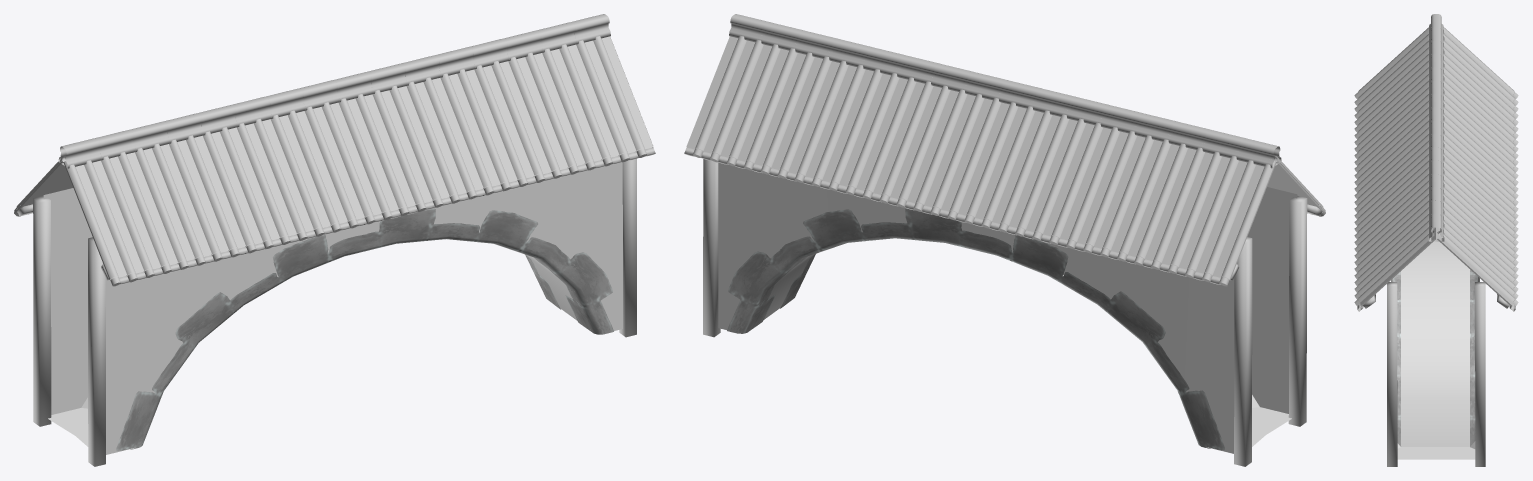
File: Wall_Arc.fbx
The picture shows the model from 3 angles, left to right: view 1: azimuth 30°, elevation 25°; view 2: azimuth 150°, elevation 25°; view 3: azimuth 270°, elevation 25°; orthographic projection. The views are drawn at different scales.
Parts seen in each view (by area): view 1: Wall_Arc_LOD0; view 2: Wall_Arc_LOD0; view 3: Wall_Arc_LOD0.
Part boxes in pixels (x1=…): Wall_Arc_LOD0: x1=14, y1=14, x2=655, y2=466; Wall_Arc_LOD0: x1=684, y1=14, x2=1325, y2=466; Wall_Arc_LOD0: x1=1354, y1=14, x2=1518, y2=466.
Size of what is drawn, in the model's own units: 963 by 502 by 312.
